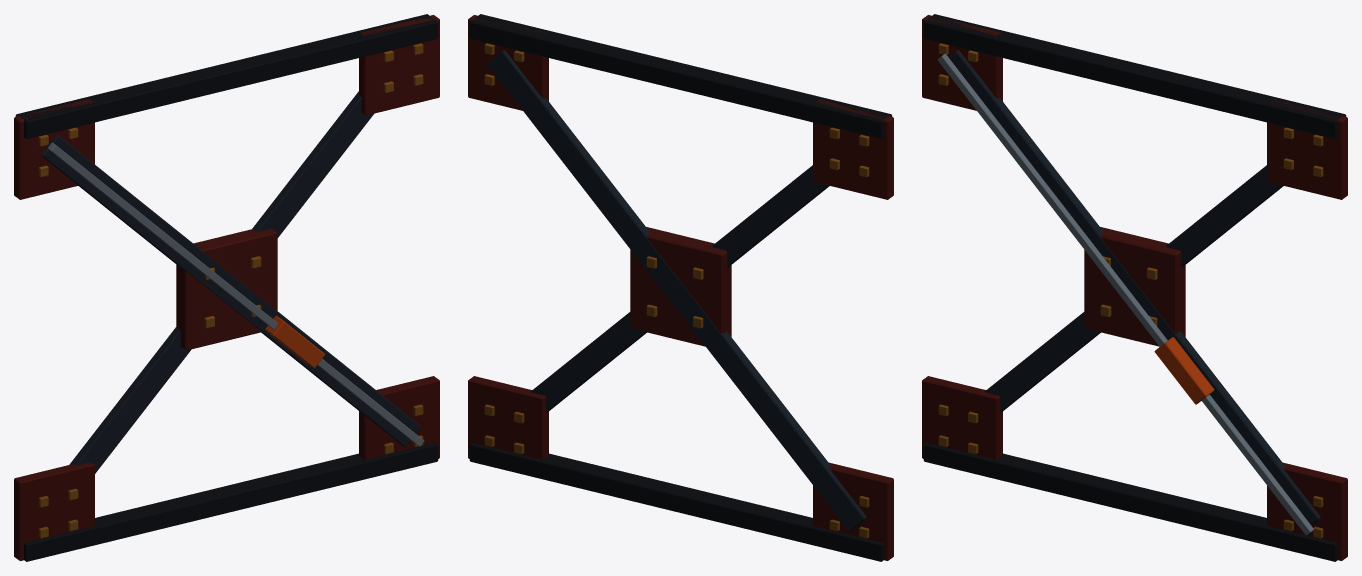
File: mod_steel_x_brace_2x2m.glb
3 views of the same model, side by side, from view 1: azimuth 30°, elevation 25°; view 2: azimuth 150°, elevation 25°; view 3: azimuth 330°, elevation 25° (orthographic).
Visible parts, largest first — view 1: Mod_Steel_X_Brace_2x2m; view 2: Mod_Steel_X_Brace_2x2m; view 3: Mod_Steel_X_Brace_2x2m.
Boxes of the visible parts, box(x1,y1,x2,y2) form: Mod_Steel_X_Brace_2x2m: box(14, 14, 439, 561); Mod_Steel_X_Brace_2x2m: box(468, 14, 893, 561); Mod_Steel_X_Brace_2x2m: box(922, 14, 1347, 561).
Bounding box in the file's own units: 2 × 2 × 0.171.
